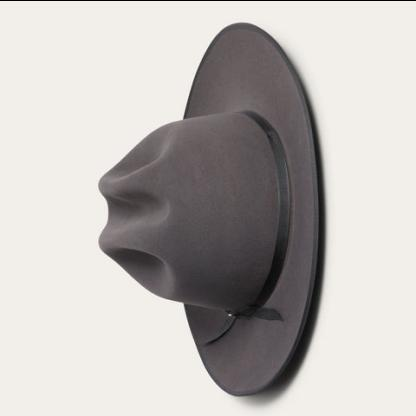hat: (93, 22, 328, 402)
